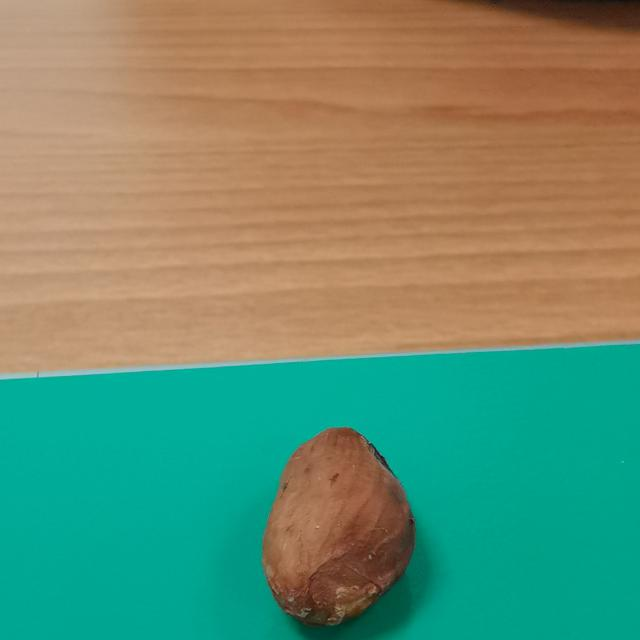Fine_cocoabeans: (198, 387, 466, 640)
